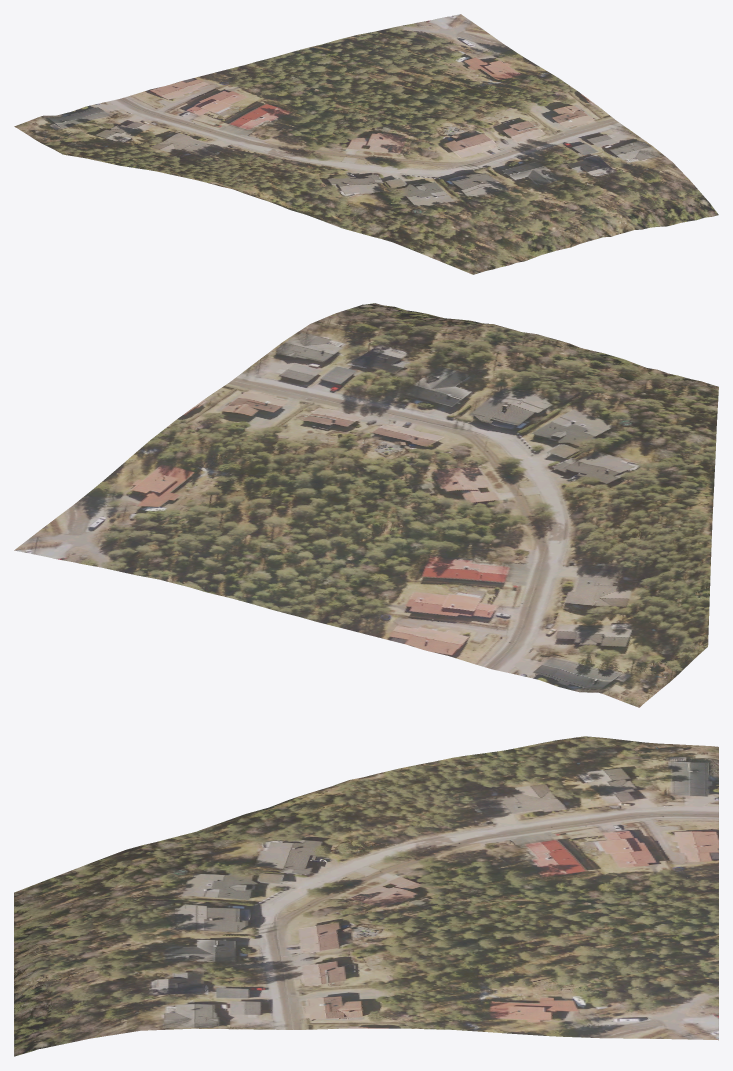
File: CM_Terrain_24490458_6816722.fbx
3 renders of one model, top to bottom at view 1: azimuth 30°, elevation 25°; view 2: azimuth 150°, elevation 25°; view 3: azimuth 270°, elevation 25°, orthographic. The views are drawn at different scales.
Parts seen in each view (by area): view 1: CM_Terrain_24490458_6816722_LOD0; view 2: CM_Terrain_24490458_6816722_LOD0; view 3: CM_Terrain_24490458_6816722_LOD0.
Part boxes in pixels (left/top/right/bottom): CM_Terrain_24490458_6816722_LOD0: left=14, top=14, right=718, bottom=274; CM_Terrain_24490458_6816722_LOD0: left=14, top=303, right=718, bottom=707; CM_Terrain_24490458_6816722_LOD0: left=14, top=736, right=718, bottom=1056.
Size of what is drawn, in the model's own units: 205 by 11.11 by 205.
